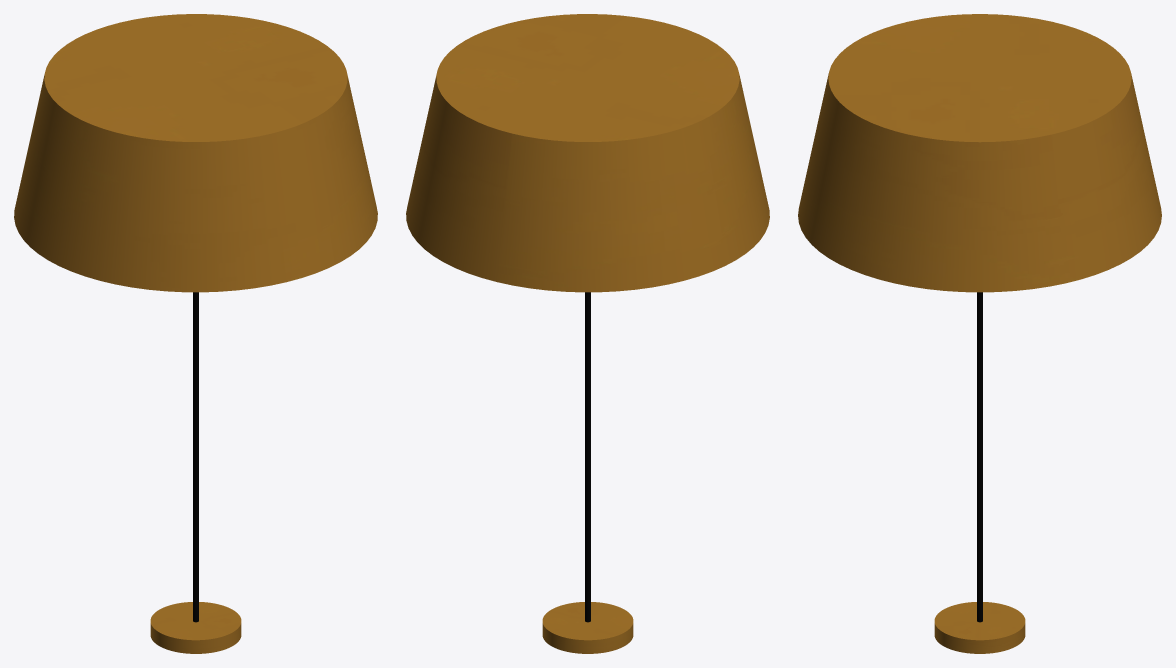
The model's file is razoredge-modern-pendant-lamp.glb.
The picture shows the model from 3 angles, left to right: view 1: azimuth 30°, elevation 25°; view 2: azimuth 150°, elevation 25°; view 3: azimuth 270°, elevation 25°; orthographic projection.
Visible parts, largest first — view 1: shade, ceiling_cap, cord; view 2: shade, ceiling_cap, cord; view 3: shade, ceiling_cap, cord.
Part boxes in pixels (x1,y1,x2,y2): shade: [14, 14, 377, 292]; ceiling_cap: [150, 602, 241, 653]; cord: [193, 292, 198, 622]; shade: [406, 14, 769, 292]; ceiling_cap: [542, 602, 633, 653]; cord: [585, 292, 590, 622]; shade: [798, 14, 1161, 292]; ceiling_cap: [934, 602, 1025, 653]; cord: [977, 292, 982, 622].
Size of the model in its own units: 0.48 by 0.81 by 0.48.
Materials: 4 (3 with a texture image).
